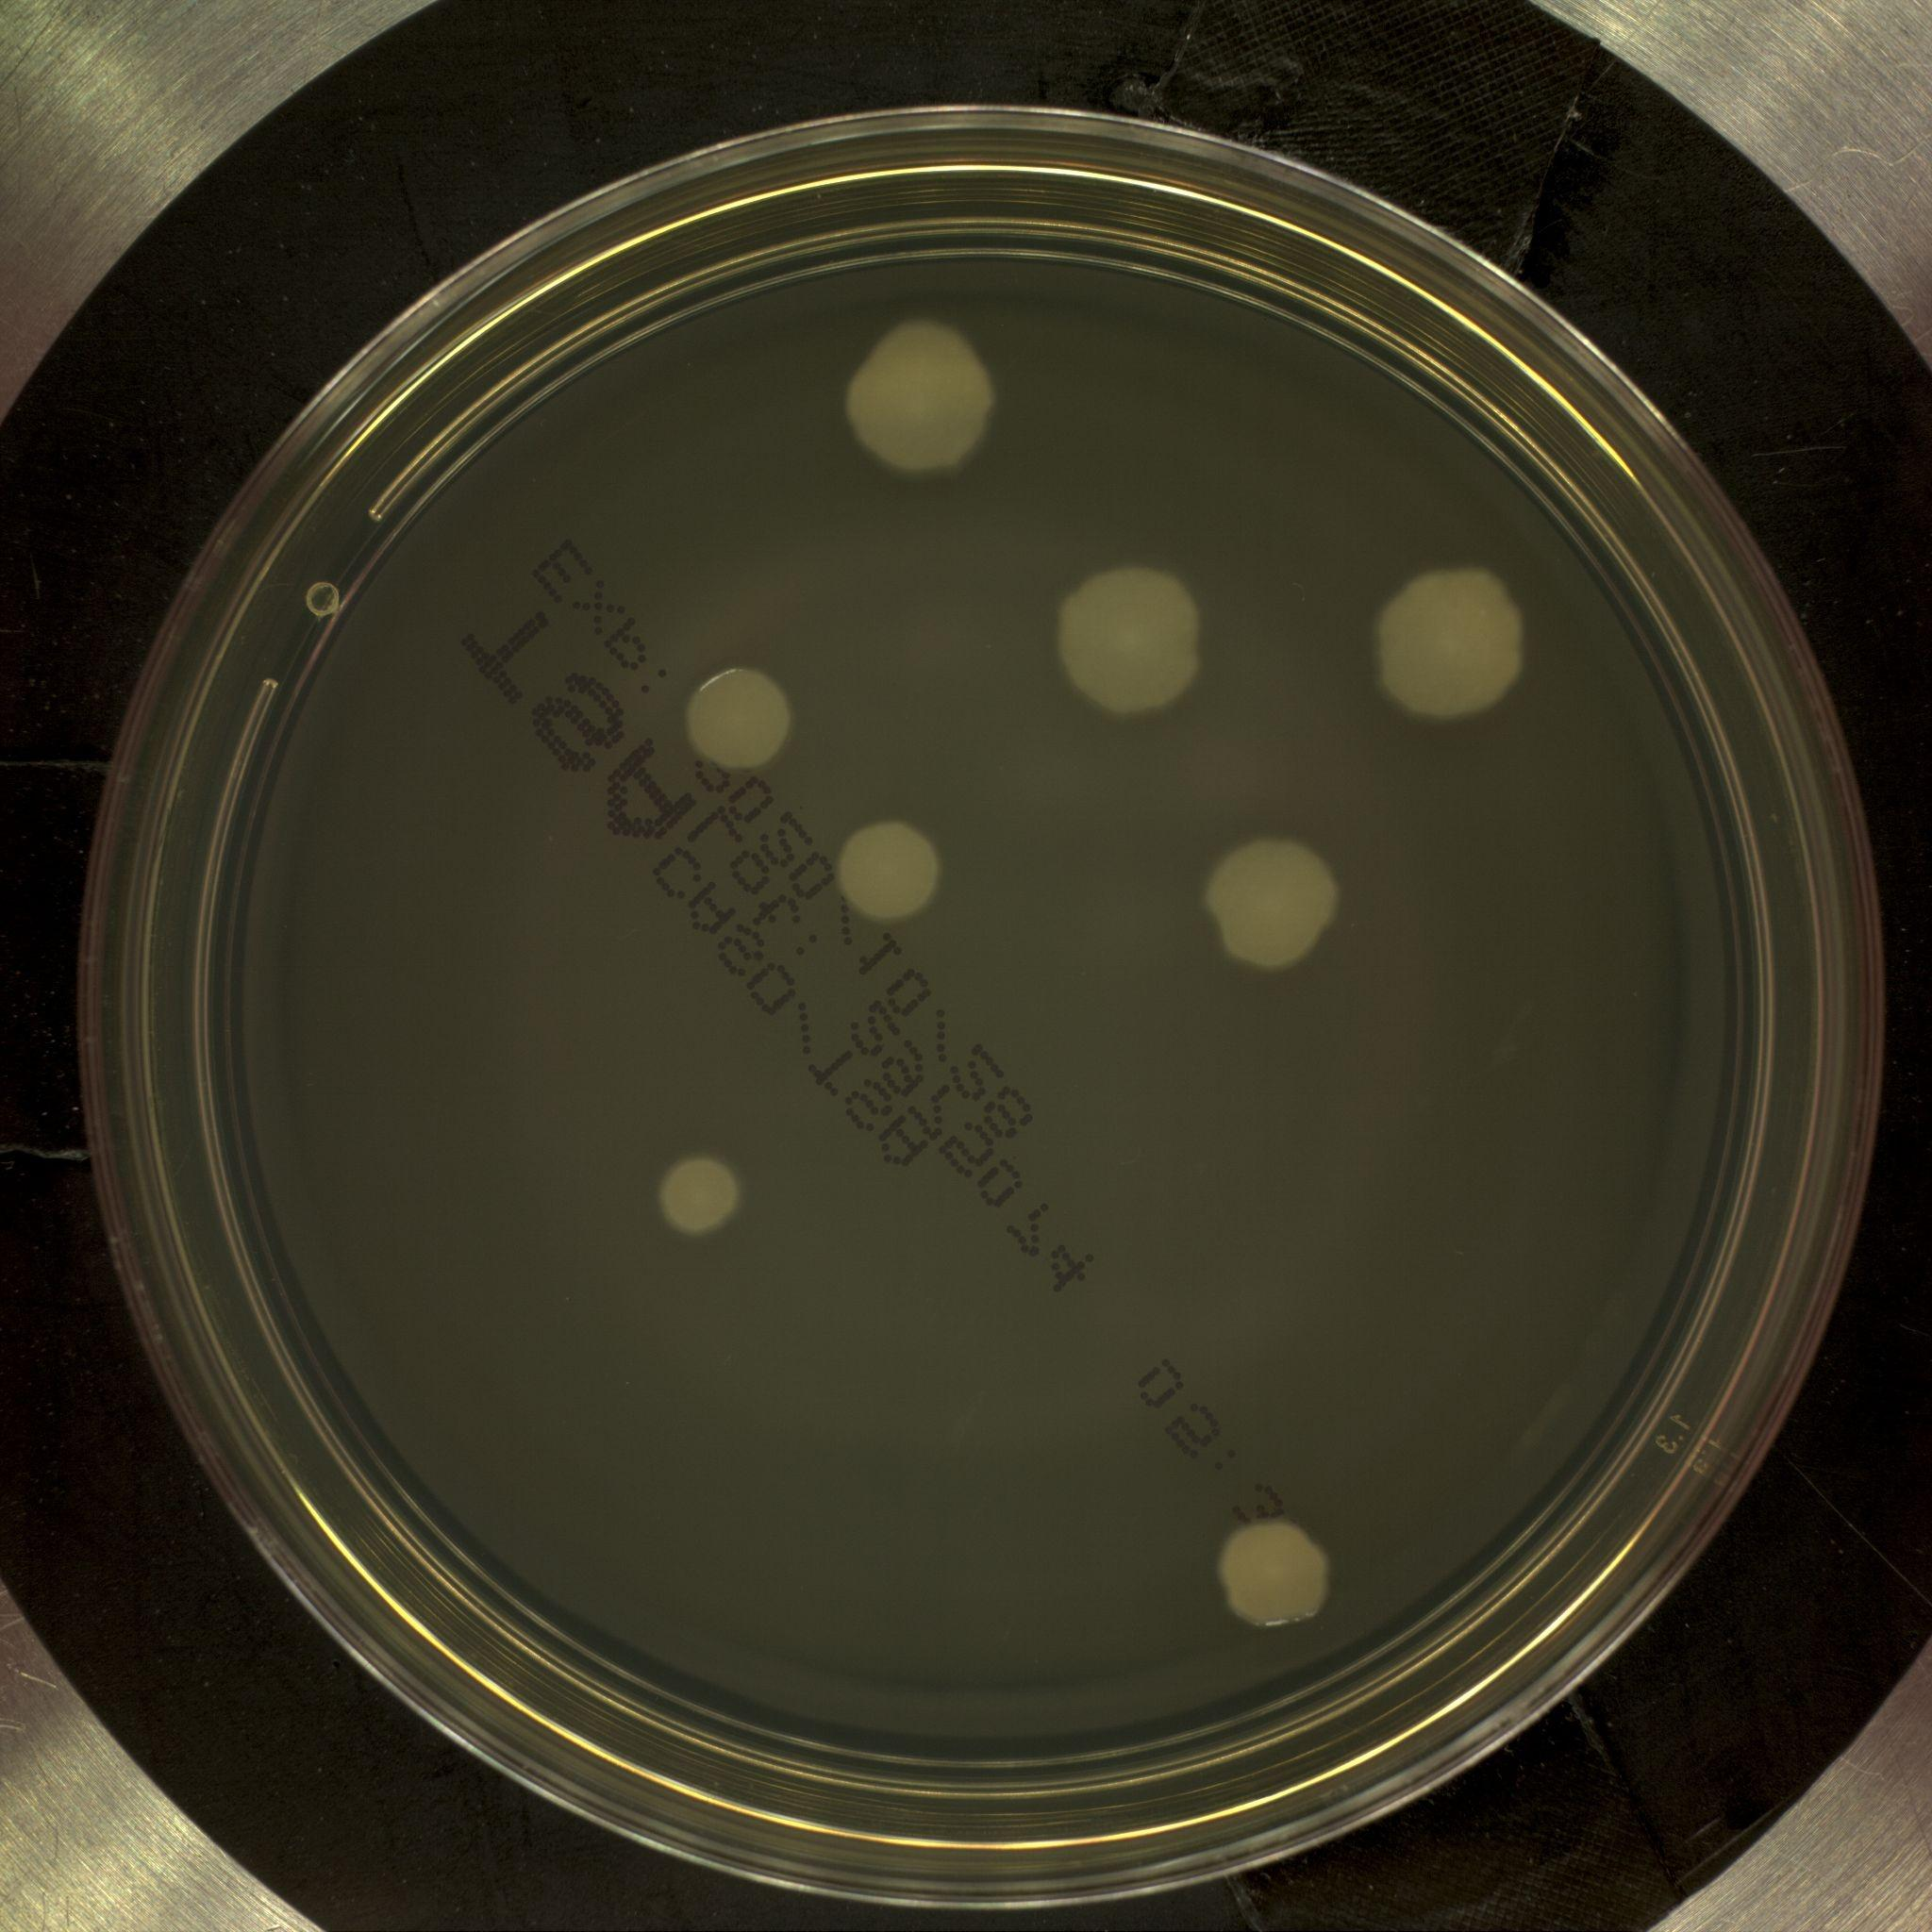e. coli: (835, 306, 1007, 490), (1049, 552, 1214, 722), (1369, 566, 1530, 717), (1205, 830, 1341, 971), (676, 651, 803, 778), (1208, 1518, 1336, 1631), (832, 807, 954, 920), (656, 1152, 743, 1246)
